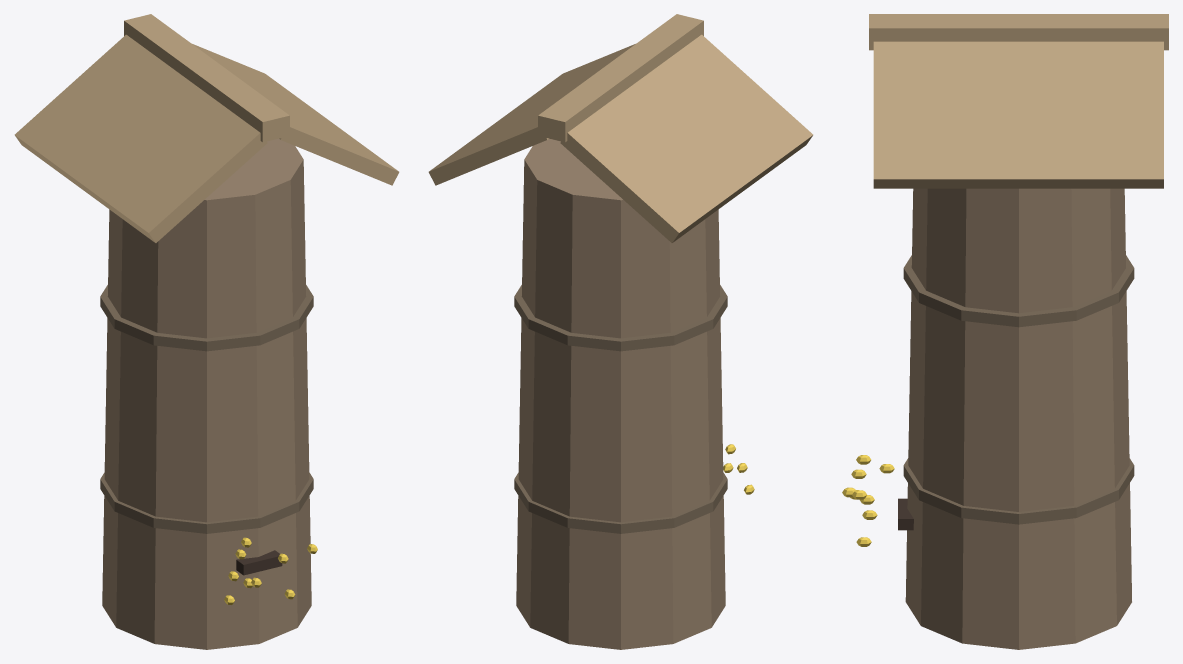
Rendered from hive-bees.glb.
3 renders of one model, left to right at view 1: azimuth 30°, elevation 25°; view 2: azimuth 150°, elevation 25°; view 3: azimuth 270°, elevation 25°, orthographic. The views are drawn at different scales.
Visible parts, largest first — view 1: ware; view 2: ware; view 3: ware.
Boxes of the visible parts, <box> form: ware: <box>14,14,399,649</box>; ware: <box>428,14,813,649</box>; ware: <box>842,14,1168,649</box>.
Size of the model in its own units: 0.6469 by 1.32 by 0.6757.
